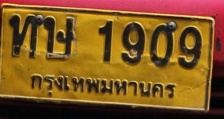txt18: (6, 12, 38, 59)
txt34: (41, 14, 77, 62)
